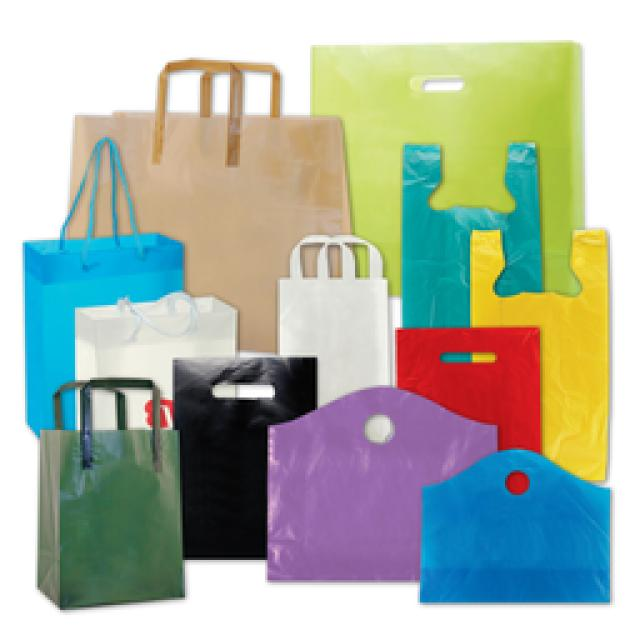plastic: (470, 228, 605, 478), (402, 142, 540, 325)
